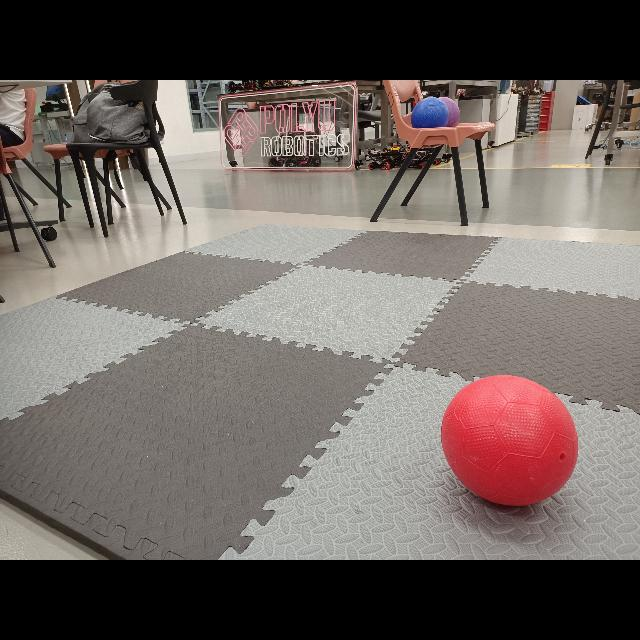B: (410, 97, 450, 131)
P: (438, 96, 460, 128)
R: (442, 374, 578, 508)
